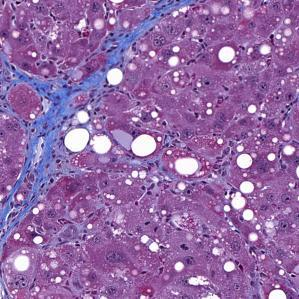fibrosis: (11, 67, 108, 156), (3, 172, 61, 227), (116, 5, 175, 58)
